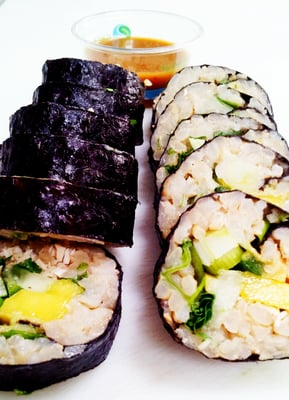soup: (146, 64, 289, 364), (0, 233, 121, 394)
sushi: (71, 10, 203, 89)
